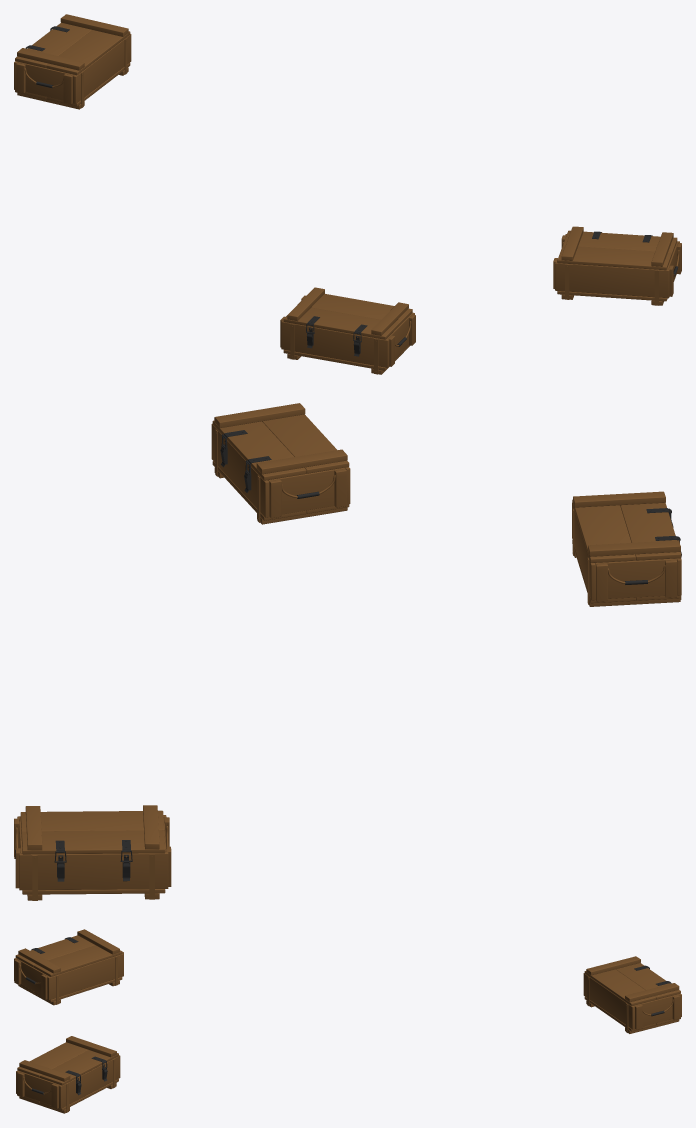
The model's file is dead_box_.fbx.
The picture shows the model from 3 angles, top to bottom: view 1: azimuth 30°, elevation 25°; view 2: azimuth 150°, elevation 25°; view 3: azimuth 270°, elevation 25°; orthographic projection. The views are drawn at different scales.
Parts seen in each view (by area): view 1: dead box .001; view 2: dead box .001; view 3: dead box .001.
Boxes of the visible parts, x1,y1,x2,y2 form: dead box .001: [14, 14, 681, 374]; dead box .001: [14, 403, 681, 900]; dead box .001: [14, 929, 681, 1113].
Size of the model in its own units: 4.2 by 0.4572 by 7.8.
